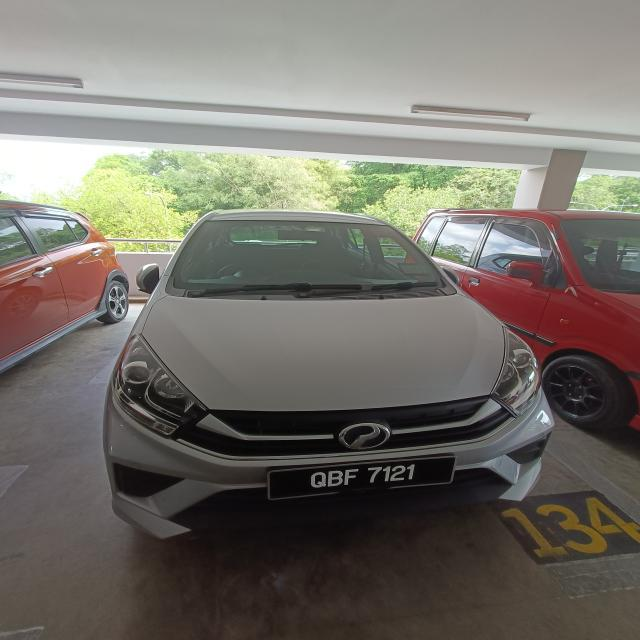PeroduaAxia: (101, 206, 556, 540)
